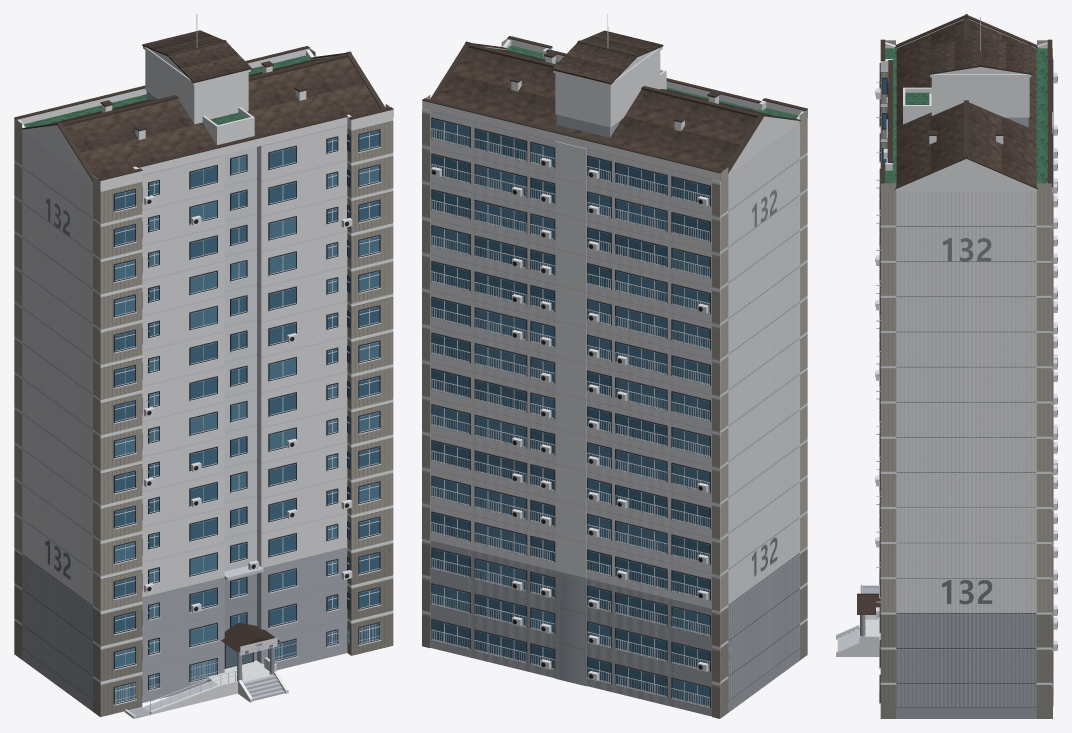
Rendered from place_행당대림132.glb.
3 renders of one model, left to right at view 1: azimuth 30°, elevation 25°; view 2: azimuth 150°, elevation 25°; view 3: azimuth 270°, elevation 25°, orthographic.
Parts seen in each view (by area): view 1: EndWall_Left_132, InnerWing_Unit2_Upper, InnerWing_Unit1_Upper, Gable_Roof_And_Penthouse, Merged_Window_Glass_Teal, OuterBay_Unit2_LBent_Upper, Merged_Window_OuterFrames, OuterBay_Unit1_LBent_Upper, Merged_Window_Glass_Sky, Merged_Window_InnerSashes, Center_Core_Upper, Central_Elevator_Penthouse (+11 smaller); view 2: EndWall_Left_132, Merged_Window_Glass_Teal, Merged_Window_Glass_Sky, Merged_Balcony_SilverRails, Gable_Roof_And_Penthouse, InnerWing_Unit1_Upper, InnerWing_Unit2_Upper, Rear_Center_Core_ShearWall, Merged_Window_OuterFrames, Merged_Window_InnerSashes, Central_Elevator_Penthouse, OuterBay_Unit1_LBent_Upper (+14 smaller); view 3: EndWall_Right_132, Gable_Roof_And_Penthouse, Central_Elevator_Penthouse, EndWall_GablePeak_Right, Merged_AC_Unit_Bodies, Merged_Window_OuterFrames, Entrance_Porch_132_1_2, Green_Urethane_Gutter_Rear, Green_Urethane_Gutter_Front, Merged_Balcony_SilverRails, OuterBay_Unit1_LBent_Upper, Rear_CornerPilaster_1_Upper (+1 smaller).
Boxes of the visible parts, left/top/right/bottom form: EndWall_Left_132: left=14, top=127, right=100, bottom=716; InnerWing_Unit2_Upper: left=257, top=125, right=347, bottom=567; InnerWing_Unit1_Upper: left=142, top=155, right=224, bottom=597; Gable_Roof_And_Penthouse: left=14, top=46, right=393, bottom=188; Merged_Window_Glass_Teal: left=115, top=131, right=379, bottom=688; OuterBay_Unit2_LBent_Upper: left=347, top=117, right=393, bottom=550; Merged_Window_OuterFrames: left=113, top=129, right=380, bottom=704; OuterBay_Unit1_LBent_Upper: left=28, top=136, right=142, bottom=611; Merged_Window_Glass_Sky: left=115, top=156, right=379, bottom=702; Merged_Window_InnerSashes: left=113, top=130, right=381, bottom=705; Center_Core_Upper: left=224, top=147, right=256, bottom=571; Central_Elevator_Penthouse: left=142, top=14, right=254, bottom=144; EndWall_Left_132: left=720, top=118, right=807, bottom=717; Merged_Window_Glass_Teal: left=432, top=130, right=709, bottom=695; Merged_Window_Glass_Sky: left=432, top=119, right=709, bottom=706; Merged_Balcony_SilverRails: left=431, top=128, right=710, bottom=708; Gable_Roof_And_Penthouse: left=422, top=36, right=807, bottom=181; InnerWing_Unit1_Upper: left=590, top=149, right=677, bottom=600; InnerWing_Unit2_Upper: left=465, top=119, right=552, bottom=569; Rear_Center_Core_ShearWall: left=555, top=141, right=586, bottom=686; Merged_Window_OuterFrames: left=431, top=117, right=710, bottom=708; Merged_Window_InnerSashes: left=432, top=119, right=709, bottom=707; Central_Elevator_Penthouse: left=552, top=14, right=666, bottom=137; OuterBay_Unit1_LBent_Upper: left=677, top=123, right=799, bottom=610; EndWall_Right_132: left=880, top=191, right=1051, bottom=718; Gable_Roof_And_Penthouse: left=880, top=14, right=1052, bottom=191; Central_Elevator_Penthouse: left=903, top=17, right=1031, bottom=127; EndWall_GablePeak_Right: left=885, top=159, right=1047, bottom=191; Merged_AC_Unit_Bodies: left=876, top=72, right=1057, bottom=650; Merged_Window_OuterFrames: left=879, top=59, right=1053, bottom=705; Entrance_Porch_132_1_2: left=836, top=585, right=880, bottom=656; Green_Urethane_Gutter_Rear: left=1036, top=48, right=1047, bottom=185; Green_Urethane_Gutter_Front: left=890, top=48, right=896, bottom=185; Merged_Balcony_SilverRails: left=1053, top=69, right=1053, bottom=695; OuterBay_Unit1_LBent_Upper: left=880, top=69, right=888, bottom=161; Rear_CornerPilaster_1_Upper: left=1052, top=187, right=1052, bottom=613.
Bounding box in the file's own units: 24.86 × 51.05 × 16.3.
34 materials, 13 textured.
